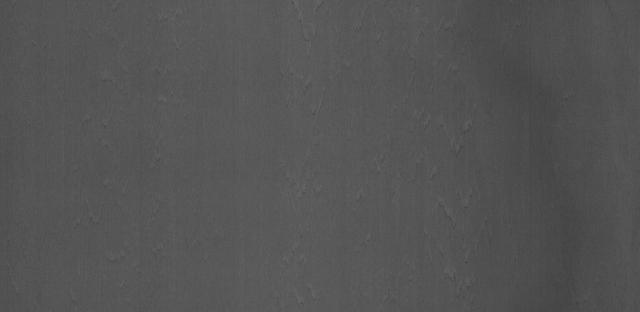silk_spot: (397, 100, 508, 178), (407, 193, 503, 272), (268, 19, 360, 95)
